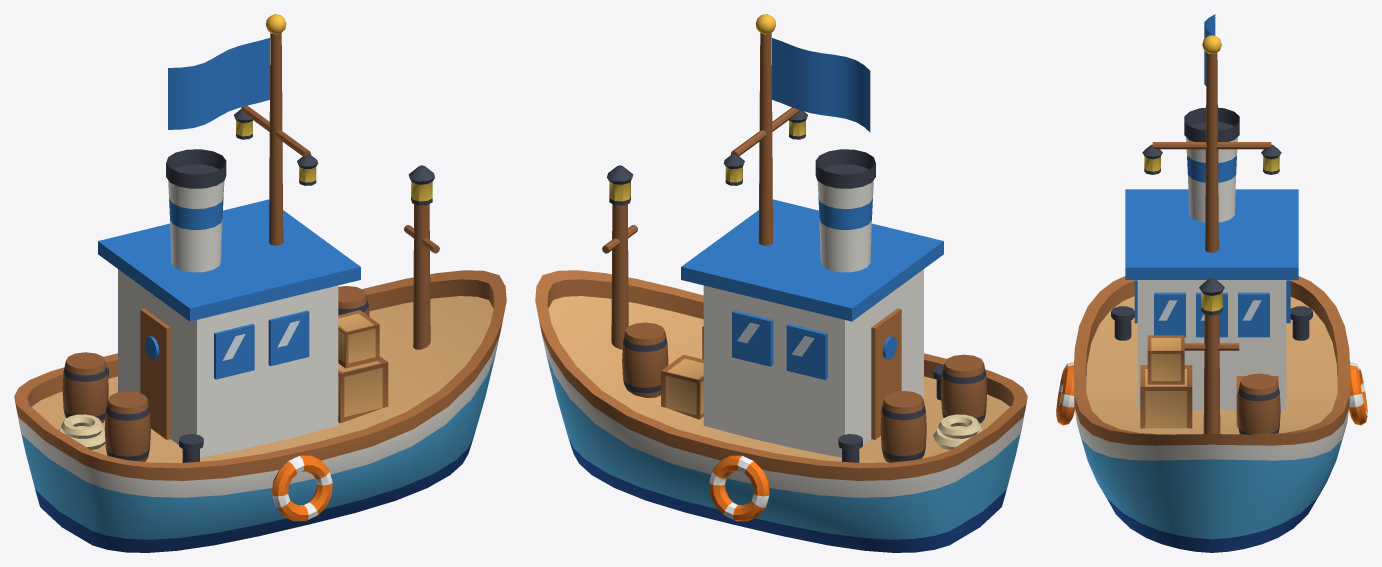
The model's file is cel-shaded.glb.
3 views of the same model, side by side, from view 1: azimuth 30°, elevation 25°; view 2: azimuth 150°, elevation 25°; view 3: azimuth 270°, elevation 25° (orthographic). The views are drawn at different scales.
Parts seen in each view (by area): view 1: hull, cabin, cargo, rigging, flag; view 2: hull, cabin, cargo, rigging, flag; view 3: hull, cabin, cargo, rigging, glints.
Part boxes in pixels (bbox=[...]): hull: bbox=[14, 270, 506, 552]; cabin: bbox=[98, 149, 360, 457]; cargo: bbox=[59, 286, 388, 521]; rigging: bbox=[234, 14, 439, 349]; flag: bbox=[168, 38, 269, 129]; hull: bbox=[535, 270, 1027, 552]; cabin: bbox=[681, 149, 943, 457]; cargo: bbox=[622, 322, 987, 521]; rigging: bbox=[602, 14, 807, 349]; flag: bbox=[772, 38, 870, 132]; hull: bbox=[1073, 276, 1350, 552]; cabin: bbox=[1125, 107, 1298, 410]; cargo: bbox=[1056, 306, 1367, 434]; rigging: bbox=[1142, 35, 1281, 433]; glints: bbox=[1158, 300, 1261, 320].
Size of the model in its own units: 2 by 1.93 by 1.26.
